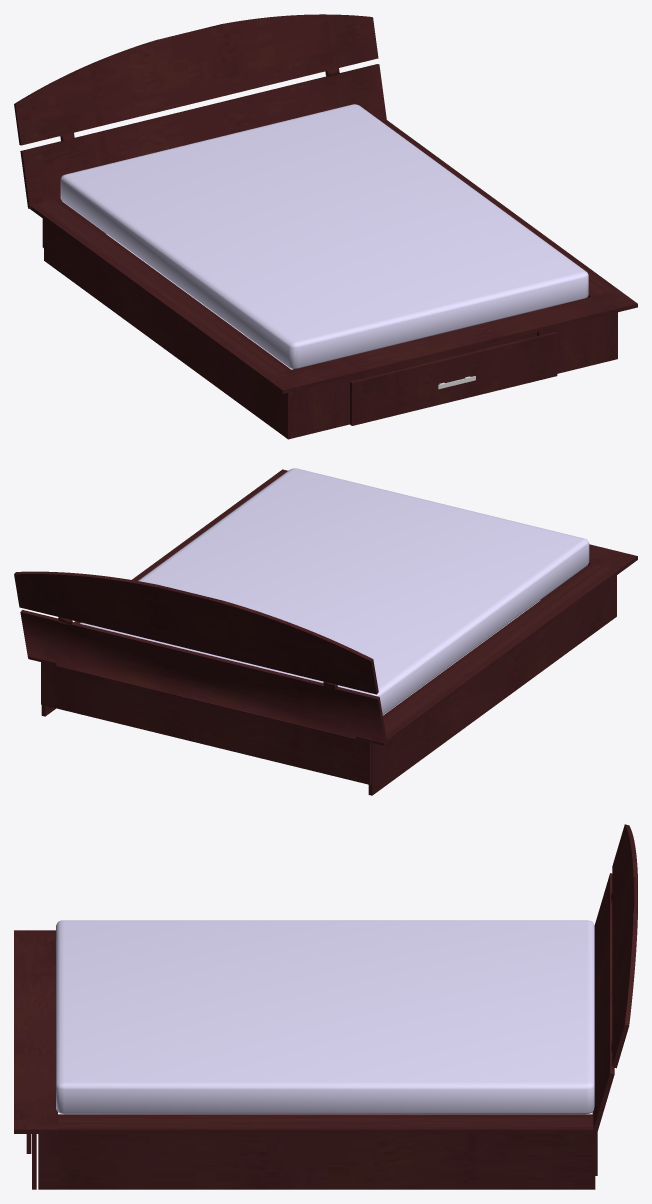
File: sweethome3d-contributions-bed-334.glb
3 views of the same model, one above another, from view 1: azimuth 30°, elevation 25°; view 2: azimuth 150°, elevation 25°; view 3: azimuth 270°, elevation 25° (orthographic). The views are drawn at different scales.
Visible parts, largest first — view 1: mattress_18, Boolean_1_13, Cube_7_10, Cube_5_1_8, Cube_9_14, Cube_1_1, Cube_2_2, Cube_3_4, Cube_3_1_5, Cube_2_1_3, Cube_4_6; view 2: mattress_18, Boolean_1_13, Cube_7_10, Cube_6_9, Cube_5_1_8, Cube_2_2, Cube_1_1, Cube_2_1_3; view 3: mattress_18, Cube_5_7, Cube_2_1_3, Cube_1_1, Boolean_1_13, Cube_7_10.
Boxes of the visible parts, x1,y1,x2,y2 form: mattress_18: (60, 104, 588, 369); Boolean_1_13: (14, 14, 378, 145); Cube_7_10: (20, 64, 386, 208); Cube_5_1_8: (44, 219, 285, 437); Cube_9_14: (350, 332, 557, 425); Cube_1_1: (263, 290, 637, 393); Cube_2_2: (30, 199, 290, 379); Cube_3_4: (286, 373, 367, 439); Cube_3_1_5: (537, 312, 617, 373); Cube_2_1_3: (380, 119, 618, 297); Cube_4_6: (367, 332, 536, 377); mattress_18: (80, 468, 589, 714); Boolean_1_13: (14, 571, 378, 694); Cube_7_10: (20, 610, 387, 745); Cube_6_9: (41, 662, 371, 784); Cube_5_1_8: (368, 577, 614, 795); Cube_2_2: (356, 563, 618, 745); Cube_1_1: (263, 469, 637, 573); Cube_2_1_3: (28, 483, 268, 665); mattress_18: (56, 920, 594, 1114); Cube_5_7: (38, 1134, 595, 1189); Cube_2_1_3: (58, 1114, 597, 1133); Cube_1_1: (14, 930, 57, 1133); Boolean_1_13: (612, 824, 637, 1068); Cube_7_10: (592, 873, 614, 1133).
Bounding box in the file's own units: 167 × 78.48 × 220.
3 materials, 2 textured.
